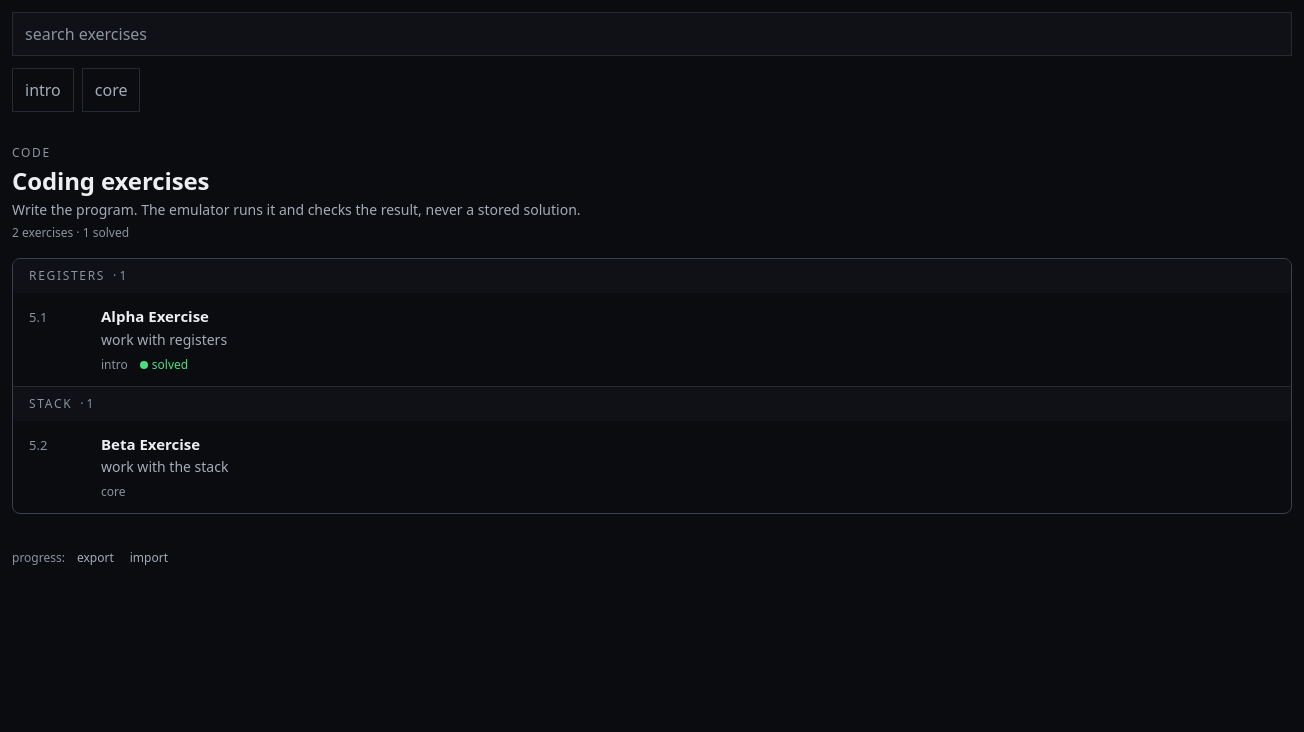
Test: ExerciseIndex › filters by a selected difficulty chip
Click the button "intro".
click(43, 90)  # box [12,68,74,112]
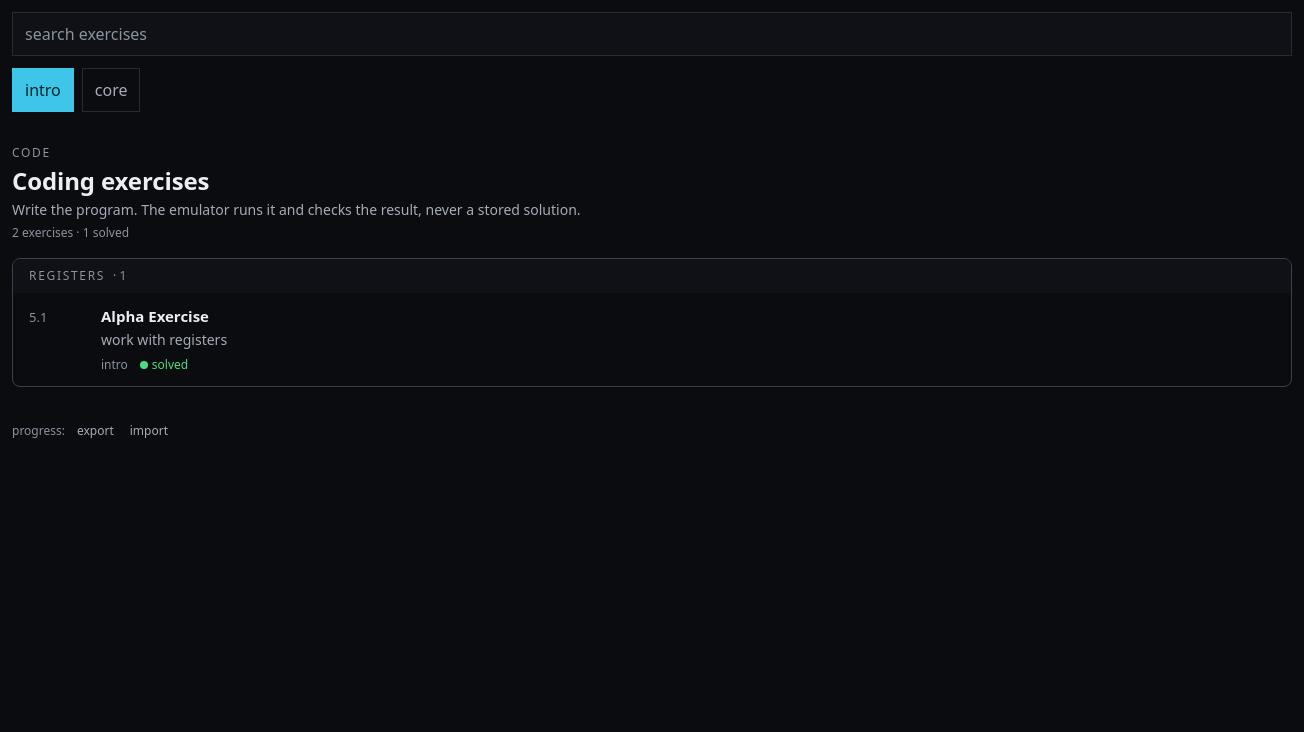
Expected: the text "Alpha Exercise" is shown, [101,306,209,326]
Now the link "Beta Exercise" is gone
